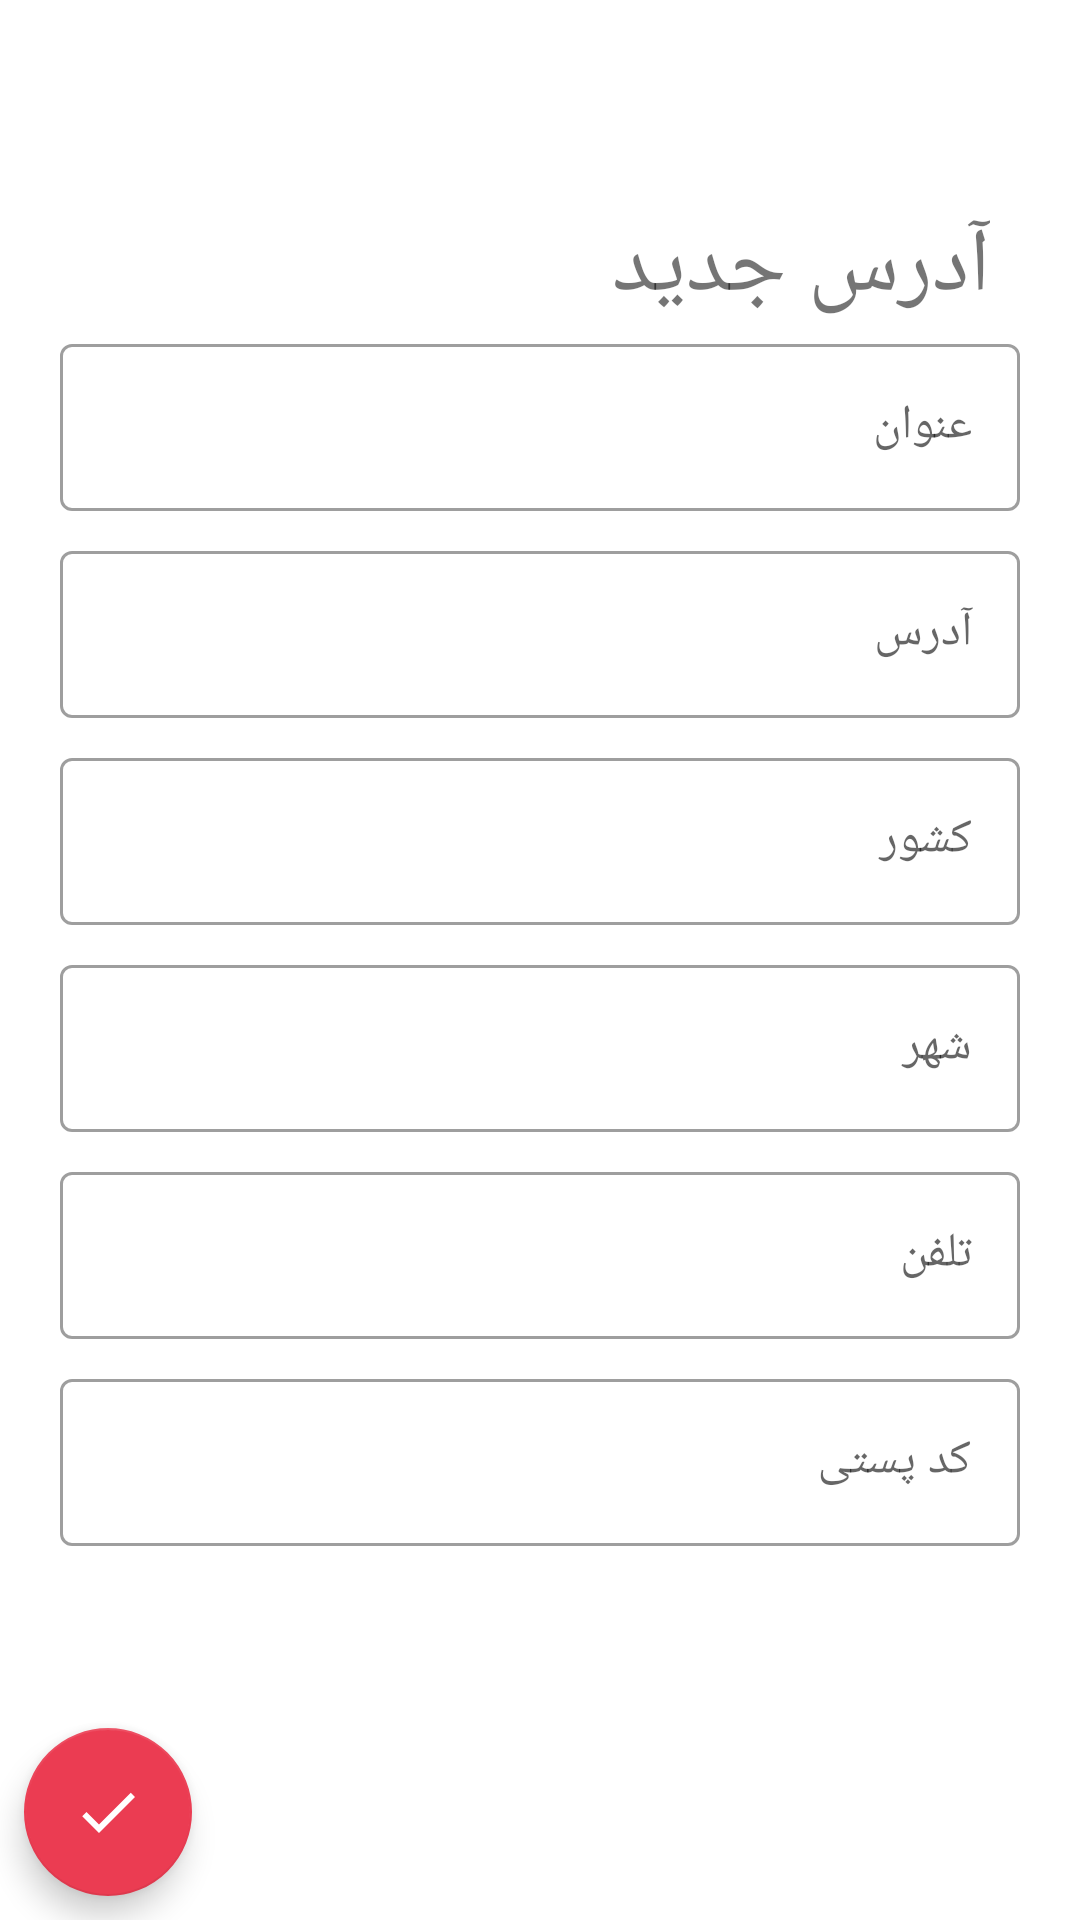

Named icons in this screenshot (1080px x 1920px) and their centers, (x=x, y=y):
check: (x=108, y=1812)
